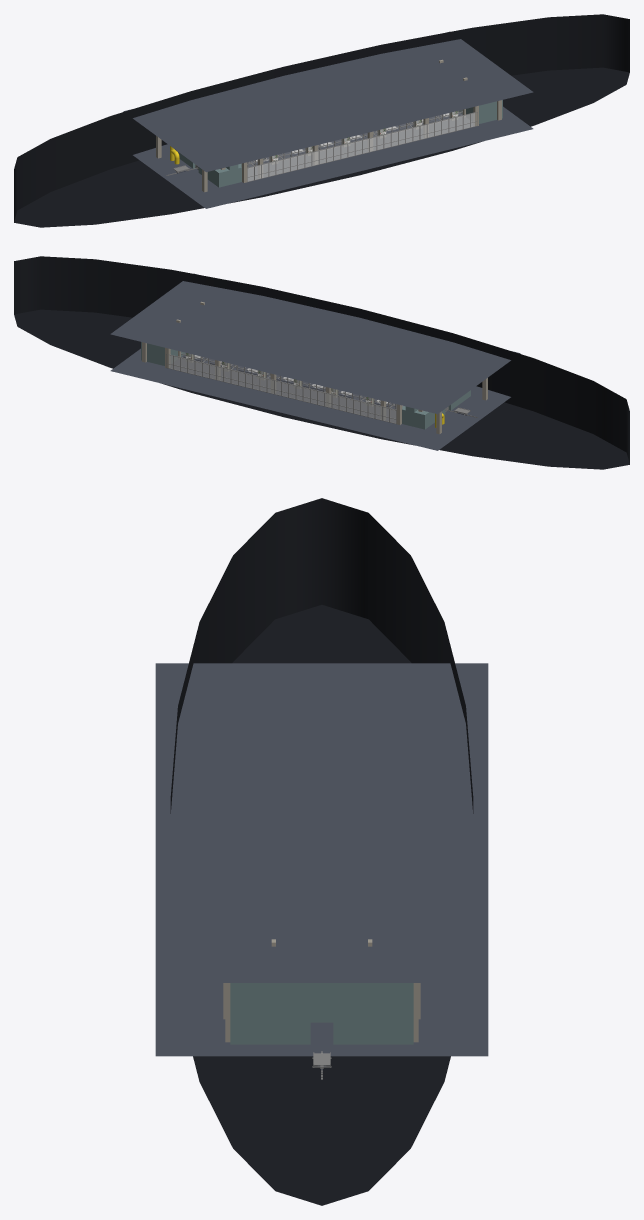
Rendered from FactoryFBX_5.fbx.
The picture shows the model from 3 angles, top to bottom: view 1: azimuth 30°, elevation 25°; view 2: azimuth 150°, elevation 25°; view 3: azimuth 270°, elevation 25°; orthographic projection. The views are drawn at different scales.
Parts seen in each view (by area): view 1: pCylinder124, pPlane2, pPlane1, pCube208, pCube155, pCube135, pCube140, pCube207, pCube157, pCube102; view 2: pCylinder124, pPlane2, pPlane1, pCube208, pCube155, pCube135, pCube140, pCube207, pCube157, pCube102; view 3: pPlane2, pCylinder124, pPlane1, pCube157.
Part boxes in pixels (left/top/right/bottom): pCylinder124: left=14, top=14, right=629, bottom=227; pPlane2: left=123, top=31, right=533, bottom=172; pPlane1: left=133, top=106, right=533, bottom=208; pCube208: left=247, top=113, right=475, bottom=181; pCube155: left=247, top=112, right=477, bottom=182; pCube135: left=175, top=149, right=241, bottom=187; pCube140: left=156, top=100, right=501, bottom=192; pCube207: left=249, top=110, right=462, bottom=166; pCube157: left=458, top=100, right=502, bottom=123; pCube102: left=247, top=111, right=462, bottom=168; pCylinder124: left=14, top=256, right=629, bottom=469; pPlane2: left=110, top=273, right=520, bottom=414; pPlane1: left=110, top=348, right=510, bottom=450; pCube208: left=168, top=355, right=396, bottom=423; pCube155: left=166, top=354, right=396, bottom=424; pCube135: left=402, top=390, right=470, bottom=429; pCube140: left=142, top=342, right=487, bottom=434; pCube207: left=181, top=352, right=394, bottom=408; pCube157: left=141, top=342, right=185, bottom=365; pCube102: left=181, top=353, right=396, bottom=410; pPlane2: left=155, top=663, right=488, bottom=982; pCylinder124: left=170, top=498, right=473, bottom=1205; pPlane1: left=155, top=983, right=488, bottom=1056; pCube157: left=230, top=983, right=413, bottom=1044.
Bounding box in the file's own units: 867 × 71.74 × 203.
